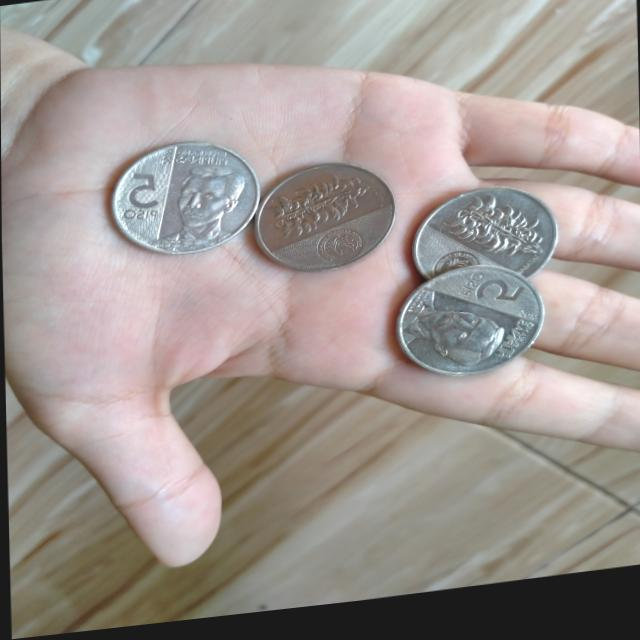5_New_Back: (253, 171, 376, 245), (445, 196, 545, 280)
5_New_Front: (447, 266, 535, 334), (100, 166, 167, 235)
